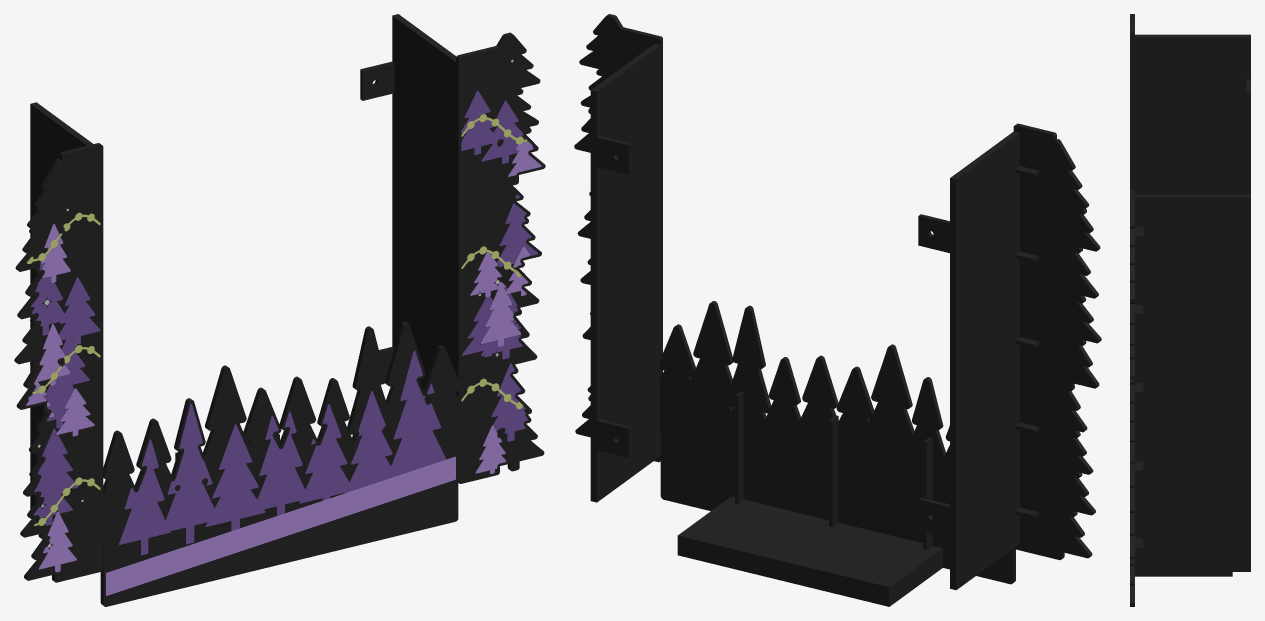
The model's file is parts.glb.
3 views of the same model, side by side, from view 1: azimuth 30°, elevation 25°; view 2: azimuth 150°, elevation 25°; view 3: azimuth 270°, elevation 25° (orthographic). The views are drawn at different scales.
Visible parts, largest first — view 1: wing_right__base, topper__base, wing_left__base, topper__plum, topper__purple, wing_right__plum, wing_left__plum, wing_left__purple, wing_right__purple, wing_left__neon, wing_right__neon; view 2: topper__base, wing_left__base, wing_right__base; view 3: wing_right__base, wing_left__base, topper__base.
Part boxes in pixels (left/top/right/bottom): wing_right__base: left=360, top=14, right=545, bottom=483; topper__base: left=92, top=321, right=474, bottom=606; wing_left__base: left=14, top=102, right=103, bottom=582; topper__plum: left=119, top=350, right=445, bottom=555; topper__purple: left=106, top=456, right=455, bottom=595; wing_right__plum: left=461, top=90, right=537, bottom=441; wing_left__plum: left=31, top=263, right=100, bottom=525; wing_left__purple: left=26, top=223, right=94, bottom=572; wing_right__purple: left=470, top=141, right=541, bottom=473; wing_left__neon: left=27, top=212, right=100, bottom=525; wing_right__neon: left=461, top=114, right=527, bottom=409; topper__base: left=660, top=301, right=1024, bottom=606; wing_left__base: left=918, top=123, right=1101, bottom=590; wing_right__base: left=574, top=14, right=662, bottom=502; wing_right__base: left=1130, top=189, right=1250, bottom=604; wing_left__base: left=1130, top=14, right=1250, bottom=194; topper__base: left=1130, top=572, right=1232, bottom=606.
Size of the model in its own units: 334 by 286 by 73.
